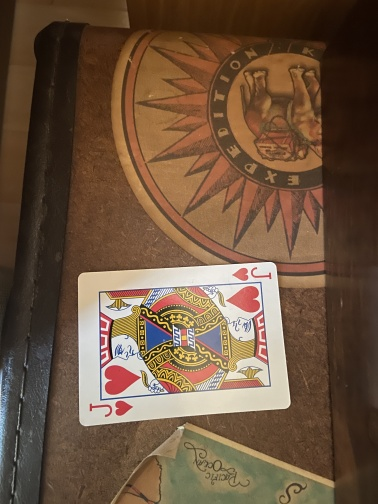jack: (76, 260, 292, 427)
